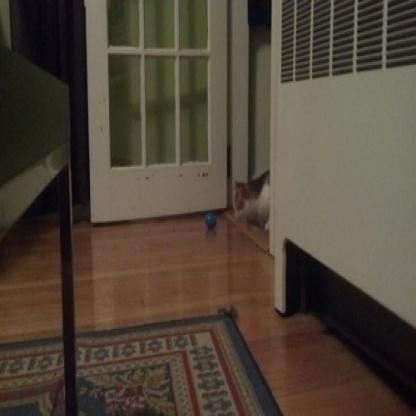Target: (230, 163, 280, 237)
